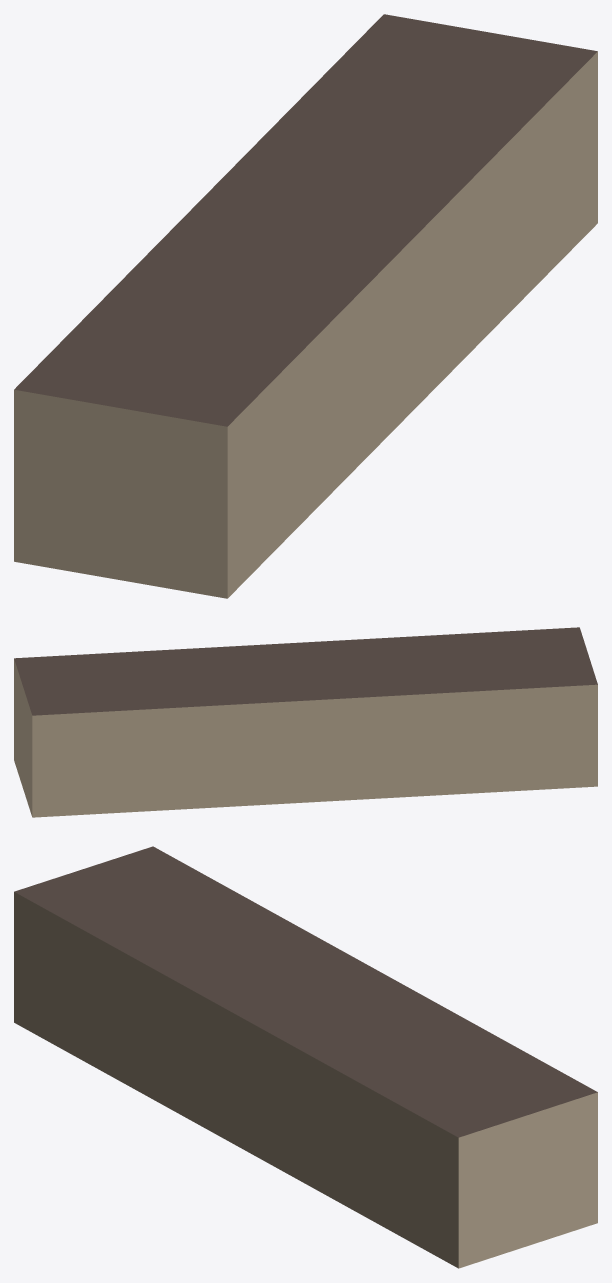
The picture shows the model from 3 angles, top to bottom: view 1: azimuth 30°, elevation 25°; view 2: azimuth 150°, elevation 25°; view 3: azimuth 270°, elevation 25°; orthographic projection. The views are drawn at different scales.
Parts seen in each view (by area): view 1: HP-w1435294179; view 2: HP-w1435294179; view 3: HP-w1435294179.
Boxes of the visible parts, x1,y1,x2,y2 form: HP-w1435294179: (14, 14, 597, 598); HP-w1435294179: (14, 627, 597, 817); HP-w1435294179: (14, 846, 597, 1268).
Bounding box in the file's own units: 42.96 × 9 × 36.39.
